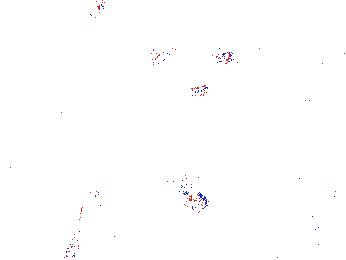X-ray fish: (160, 167, 211, 213)
glassfish: (69, 160, 122, 253), (193, 130, 274, 181)
red belly glassfish: (171, 83, 211, 100), (88, 1, 108, 18)
redtail glassfish: (149, 43, 238, 68)
